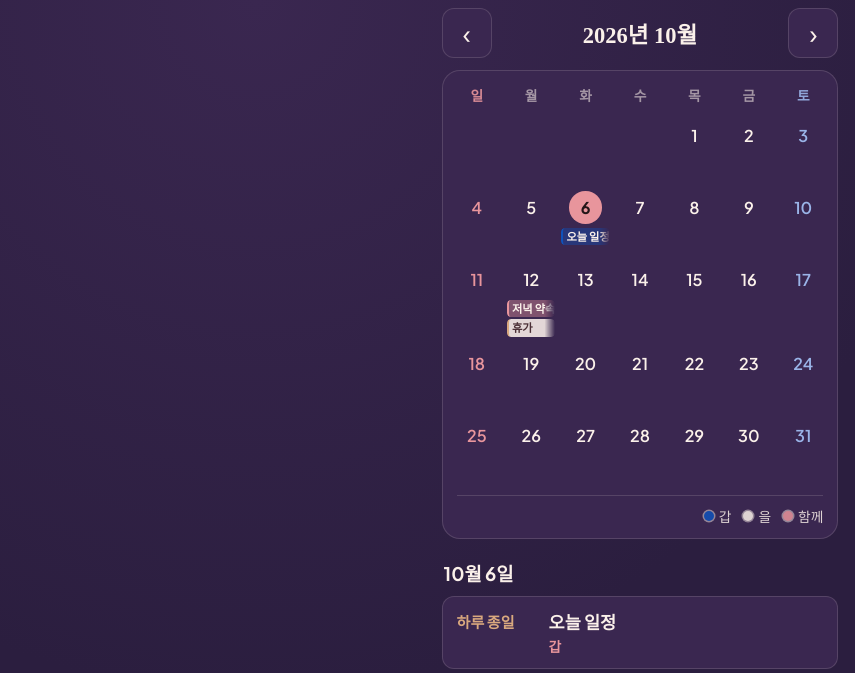
Calendar › lists the selected day in order, with time, owner and note
Check: the 2nd text "오늘 일정" is shown, box [549,609,616,634]
Click the button with aria-label "10월 12일" at (531, 300), box [505,259,557,341]
(page scrolled)
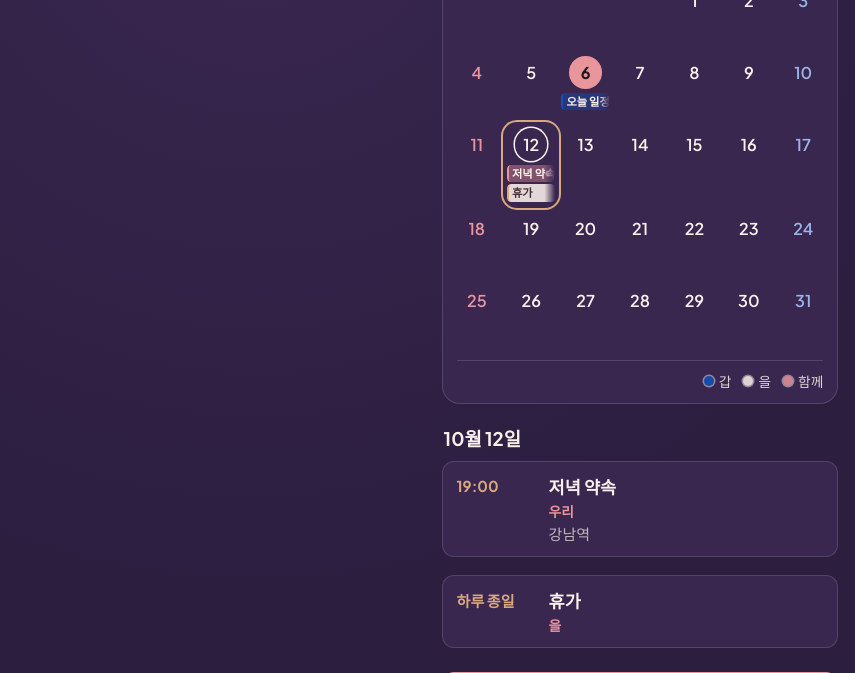
Check: the number of buttons with test id "event-row" is 2, box [442,461,838,557]; [442,575,838,648]
Check: the text "19:00" is shown, box [457,476,499,495]
Check: the 2nd text "저녁 약속" is shown, box [549,474,616,499]
